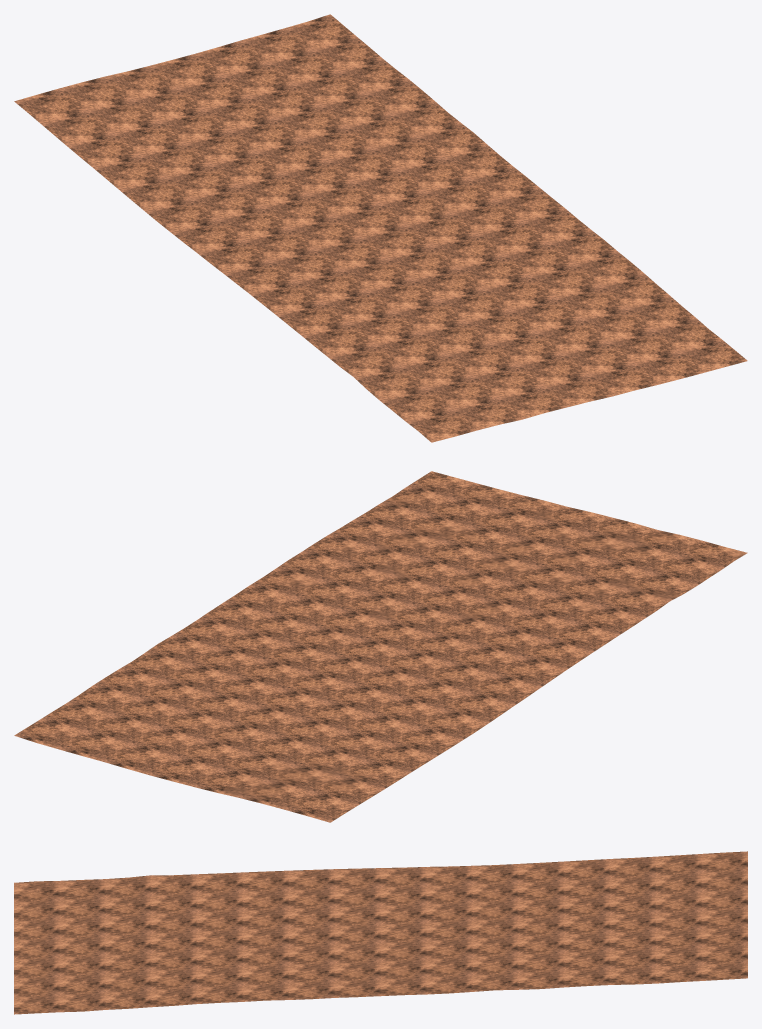
Rendered from terrain_12_23.dae.
3 renders of one model, top to bottom at view 1: azimuth 30°, elevation 25°; view 2: azimuth 150°, elevation 25°; view 3: azimuth 270°, elevation 25°, orthographic. The views are drawn at different scales.
Parts seen in each view (by area): view 1: terrain_12_23-node; view 2: terrain_12_23-node; view 3: terrain_12_23-node.
Boxes of the visible parts, <box> form: terrain_12_23-node: <box>14,14,747,442</box>; terrain_12_23-node: <box>14,471,747,822</box>; terrain_12_23-node: <box>14,851,747,1014</box>.
Bounding box in the file's own units: 56 × 128 × 7.72.
1 material, 1 textured.
